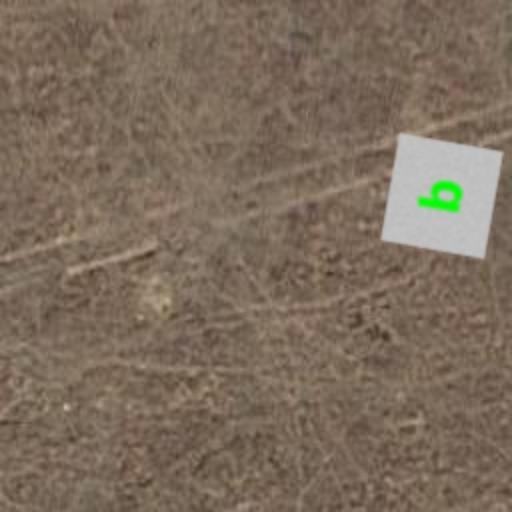rectangle: (378, 132, 506, 260)
